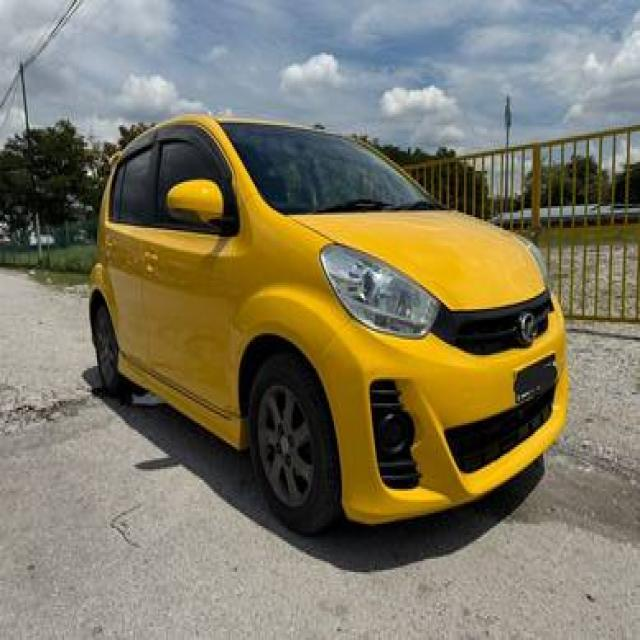PeroduaMyvi: (86, 110, 570, 538)
